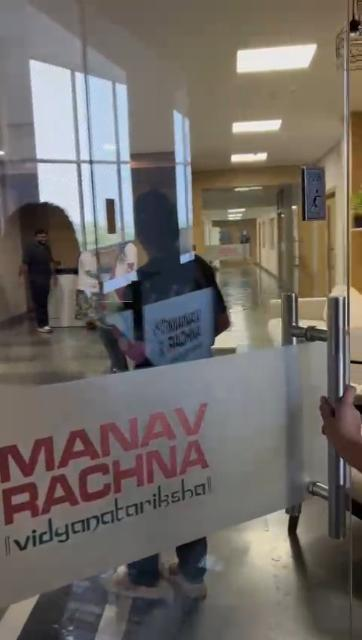moving-obj: (109, 202, 243, 586)
